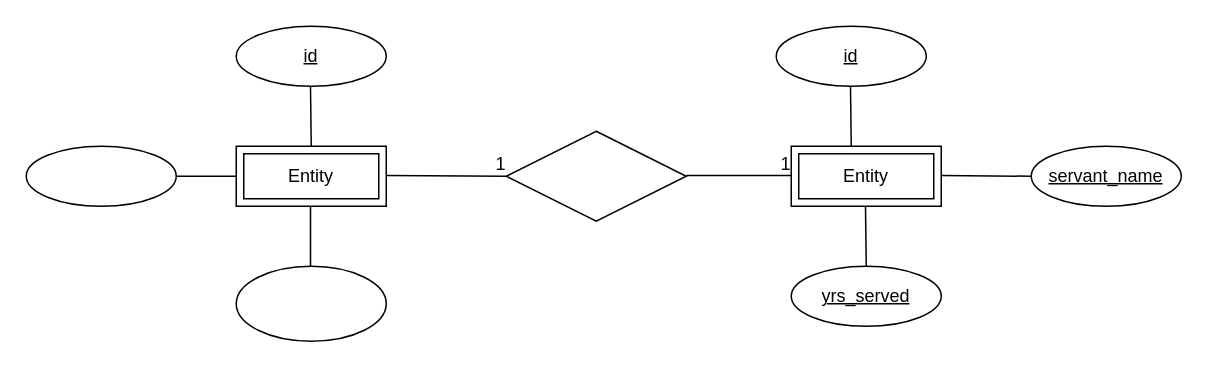
Image size: 1208x368. Some labels were removed from this diagram. Each missing label, with the centre of its shape:
cat_name: (100,175)
fur_color: (310,303)
has a: (595,175)
